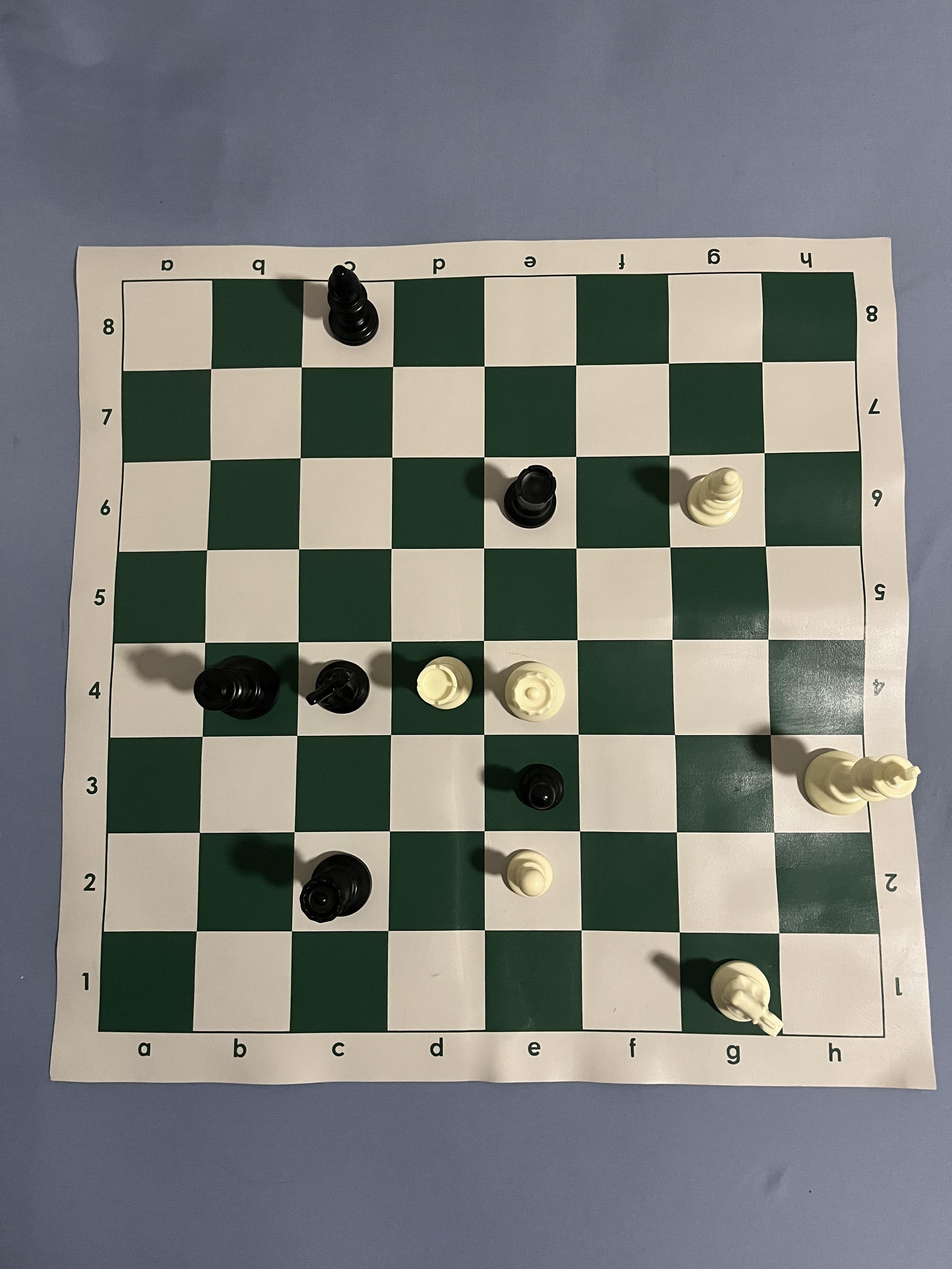black_bishop: (327, 265, 379, 347)
black_king: (193, 656, 281, 721)
black_knight: (306, 659, 371, 715)
black_pawn: (514, 762, 566, 814)
black_queen: (299, 853, 373, 924)
black_rook: (503, 464, 558, 528)
white_bishop: (685, 466, 744, 527)
white_king: (802, 748, 922, 817)
white_knight: (709, 959, 783, 1038)
white_pawn: (501, 848, 555, 900)
white_queen: (504, 660, 567, 723)
white_rook: (415, 656, 474, 712)
